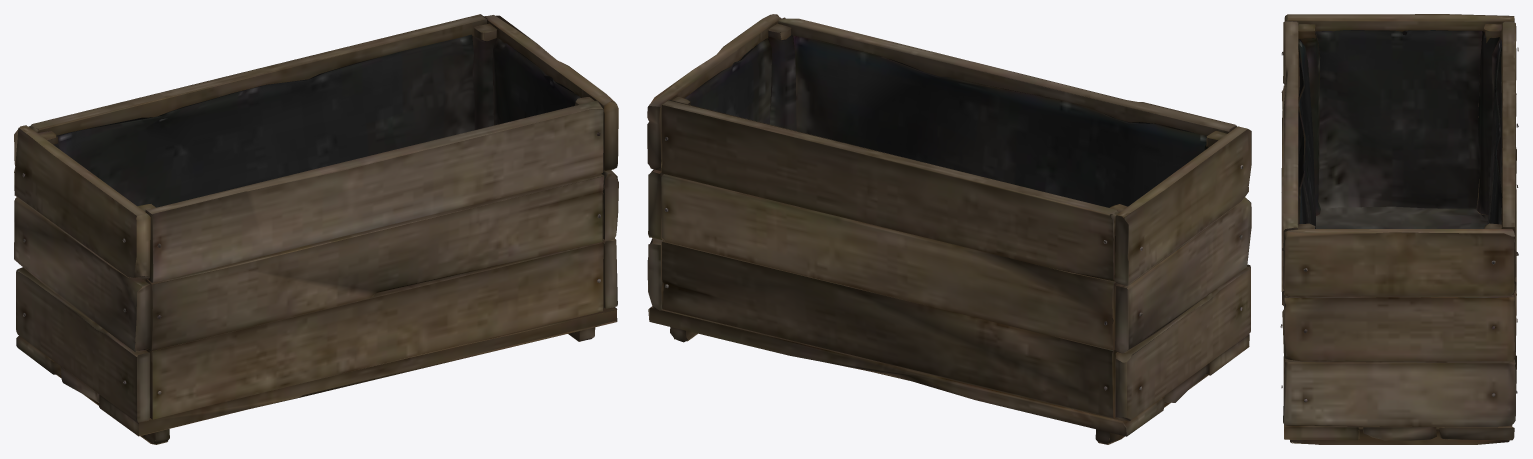
Rendered from planter.glb.
3 renders of one model, left to right at view 1: azimuth 30°, elevation 25°; view 2: azimuth 150°, elevation 25°; view 3: azimuth 270°, elevation 25°, orthographic. The views are drawn at different scales.
Parts seen in each view (by area): view 1: planter_box_01; view 2: planter_box_01; view 3: planter_box_01.
Part boxes in pixels (x1,y1,x2,y2): planter_box_01: (14, 14, 618, 444); planter_box_01: (647, 14, 1251, 444); planter_box_01: (1280, 14, 1518, 444).
Size of the model in its own units: 0.9139 by 0.4259 by 0.4159.
1 material, 1 textured.
